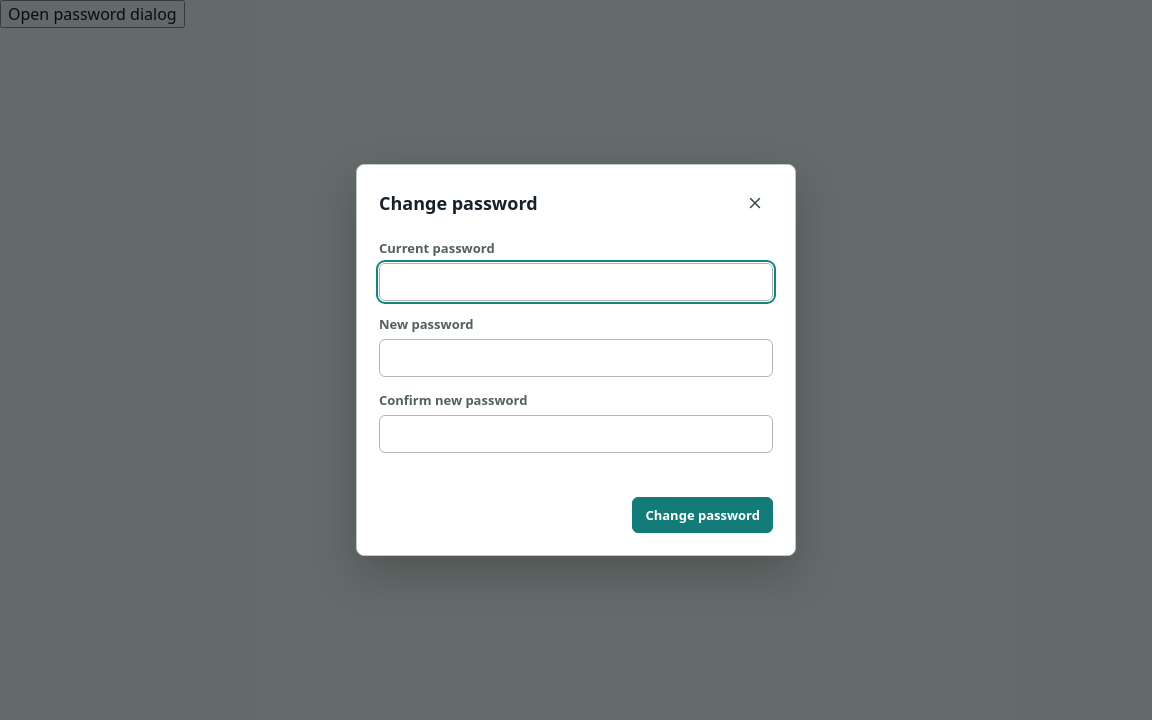
Test: ChangePasswordDialog › clears partial values before displaying a required-password error
The width and height of the screenshot is (1152, 720).
Type "ReplacementPass9!" into the password field labelled "New password". click: (576, 358)
box: [379,339,773,377]
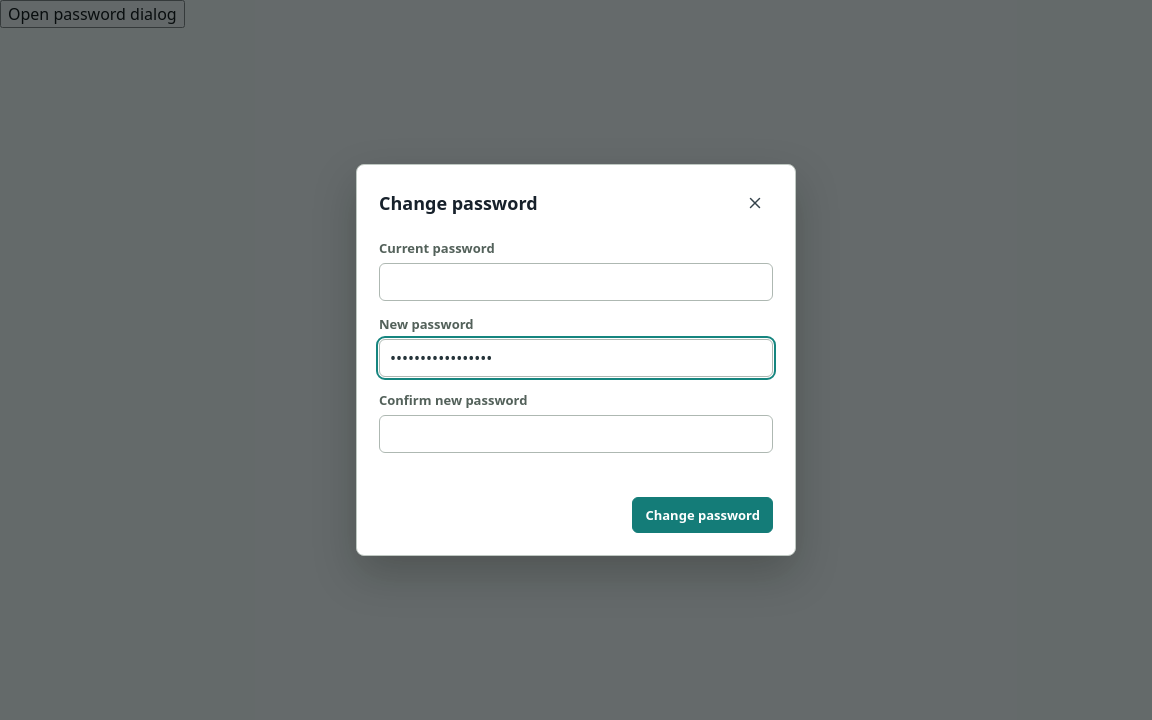
Type "ReplacementPass9!" into the password field labelled "Confirm new password". click: (576, 434)
box: [379,415,773,453]
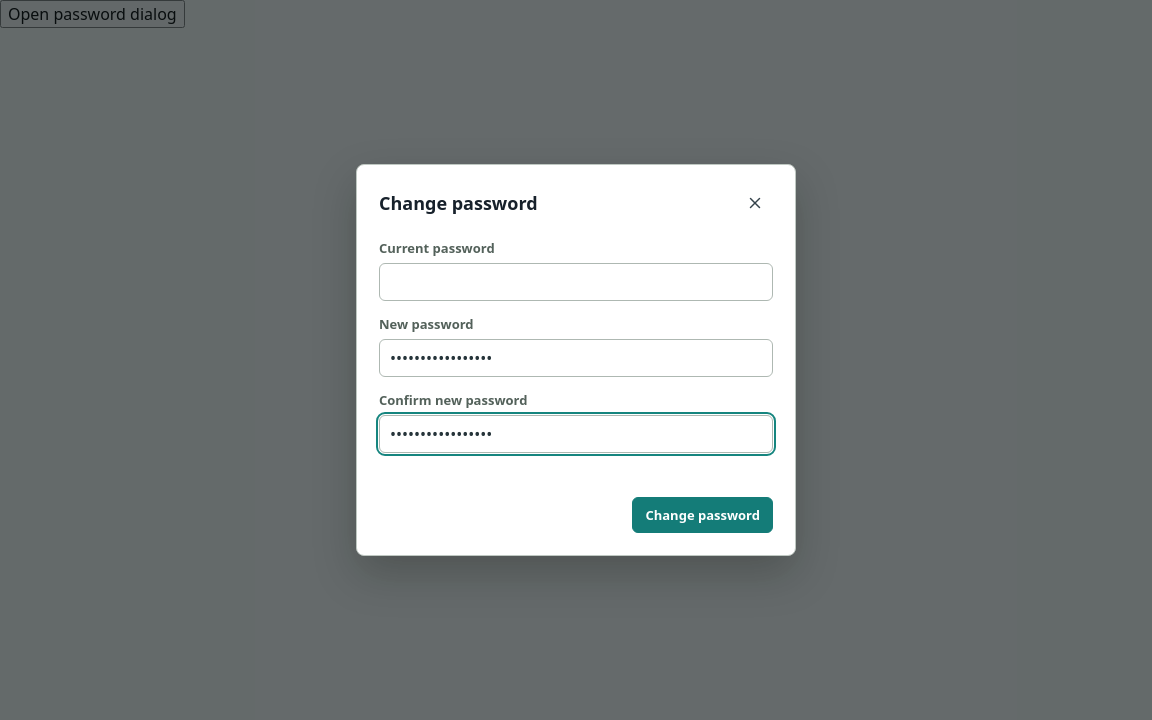
Click the button "Change password". click: (703, 515)
box: [632,497,773,533]
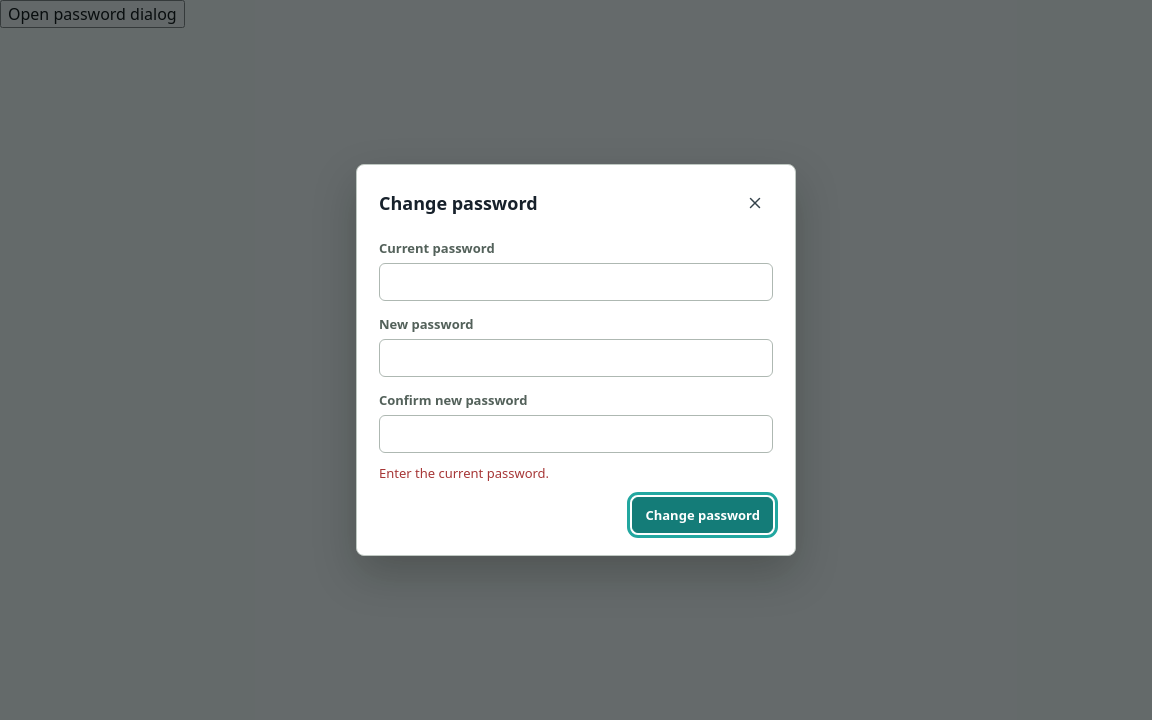
Expected: the message reads "Enter the current password.", [379,464,549,482]
Expected: the password field labelled "New password" is empty, [379,339,773,377]
Expected: the password field labelled "Confirm new password" is empty, [379,415,773,453]
